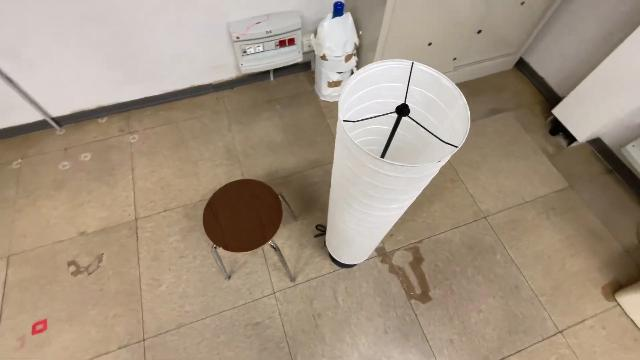Lamp: (321, 55, 477, 271)
Stool: (200, 174, 302, 290)
